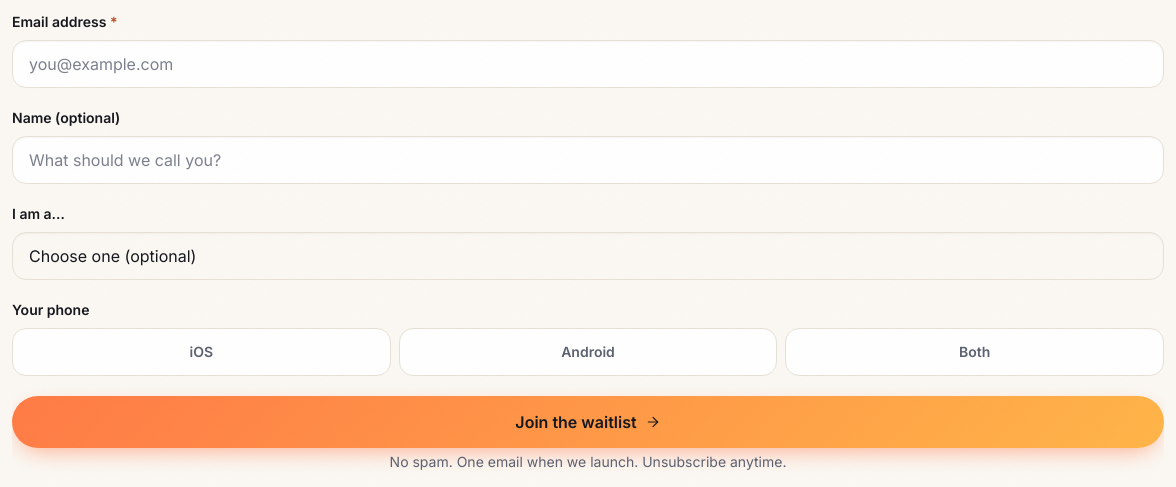
<WaitlistForm /> › submits and shows the success state
This screenshot has width=1176, height=487.
In the field labelled "Email address *": (588, 64) x1=12 y1=40 x2=1164 y2=88, type "Me@Example.com"
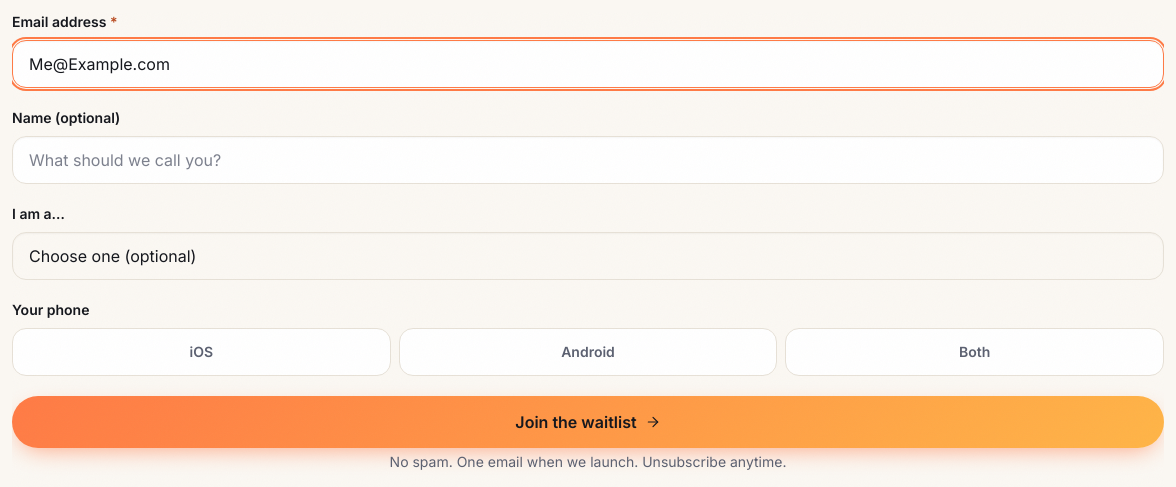
Click the button "Join the waitlist": (588, 422) x1=12 y1=396 x2=1164 y2=448
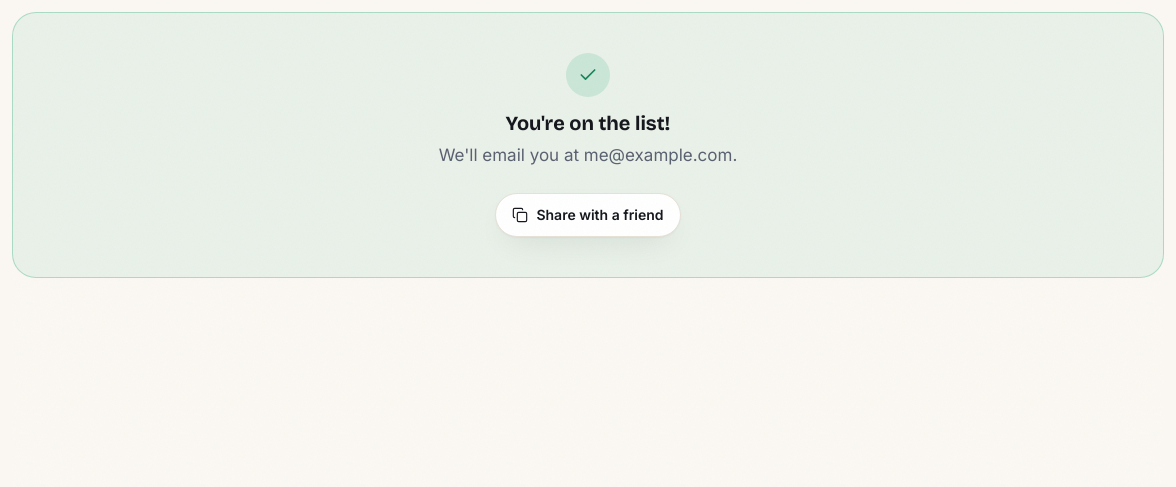
Result: the text "You're on the list!" is shown at x1=506 y1=109 x2=670 y2=137
Result: the text "We'll email you at me@example.com." is shown at x1=439 y1=141 x2=737 y2=169
